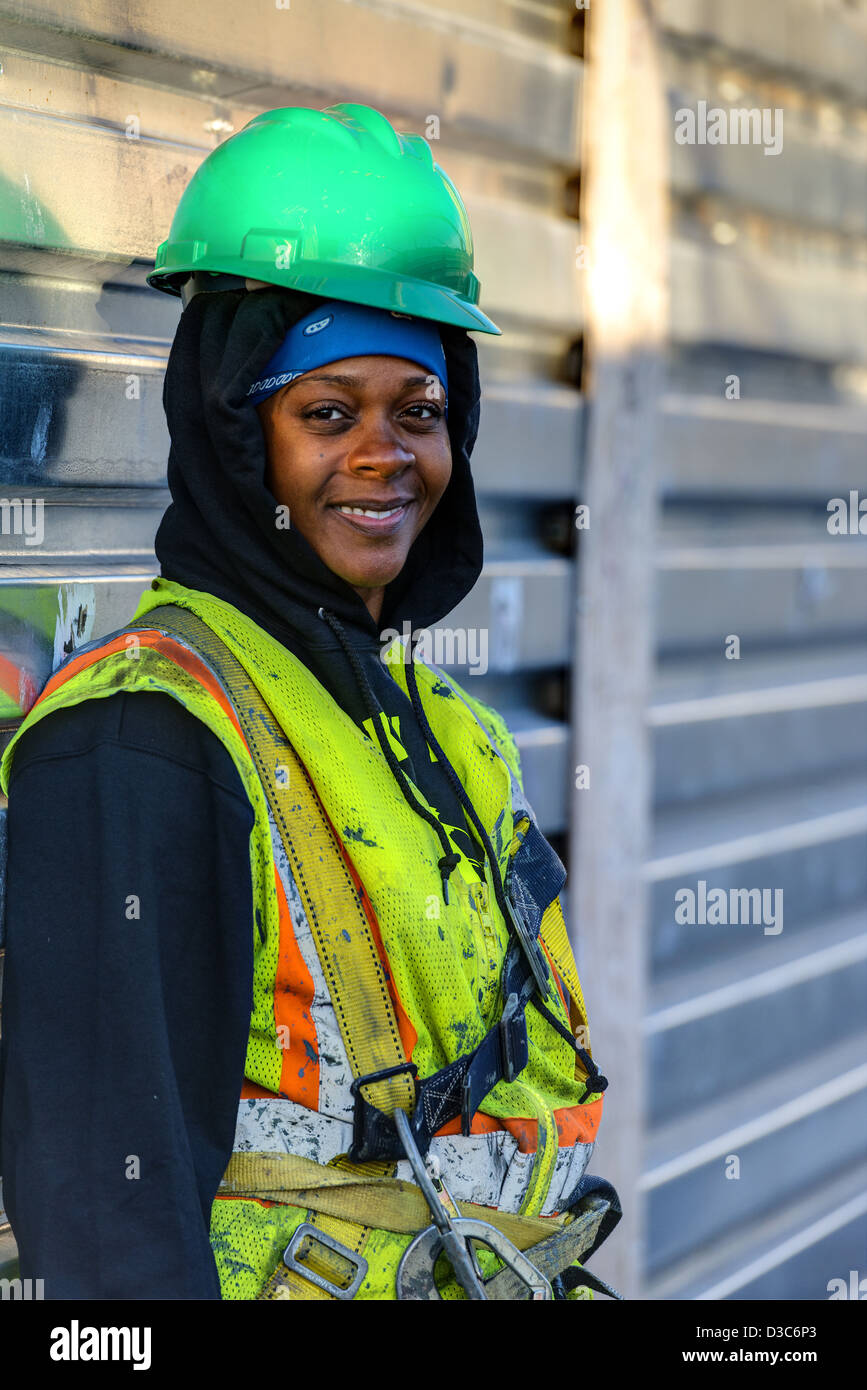cap: (121, 78, 517, 343)
jacket: (20, 572, 659, 1299)
